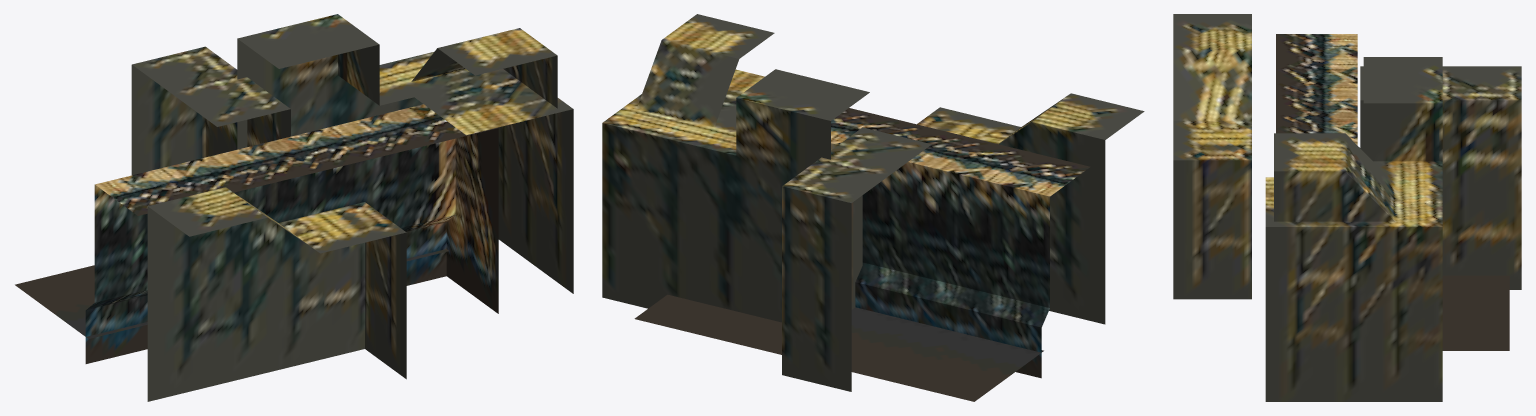
Rendered from F_GuildRampart_08.fbx.
3 renders of one model, left to right at view 1: azimuth 30°, elevation 25°; view 2: azimuth 150°, elevation 25°; view 3: azimuth 270°, elevation 25°, orthographic. The views are drawn at different scales.
Parts seen in each view (by area): view 1: F_GuildRampart_08, T_BuildForm_03, T_BuildForm_01, T_BuildForm_02; view 2: F_GuildRampart_08, T_BuildForm_01, T_BuildForm_02, T_BuildForm_03; view 3: T_BuildForm_01, T_BuildForm_03, T_BuildForm_02, F_GuildRampart_08.
Part boxes in pixels (x1=…): F_GuildRampart_08: x1=15, y1=104, x2=498, y2=363; T_BuildForm_03: x1=147, y1=187, x2=406, y2=401; T_BuildForm_01: x1=237, y1=14, x2=573, y2=293; T_BuildForm_02: x1=131, y1=46, x2=290, y2=175; F_GuildRampart_08: x1=634, y1=108, x2=1090, y2=401; T_BuildForm_01: x1=602, y1=14, x2=869, y2=322; T_BuildForm_02: x1=782, y1=127, x2=931, y2=391; T_BuildForm_03: x1=917, y1=93, x2=1144, y2=324; T_BuildForm_01: x1=1265, y1=57, x2=1442, y2=401; T_BuildForm_03: x1=1173, y1=14, x2=1251, y2=299; T_BuildForm_02: x1=1360, y1=66, x2=1521, y2=289; F_GuildRampart_08: x1=1276, y1=34, x2=1509, y2=350.
Size of the model in its own units: 0.725 by 0.4057 by 0.5343.
